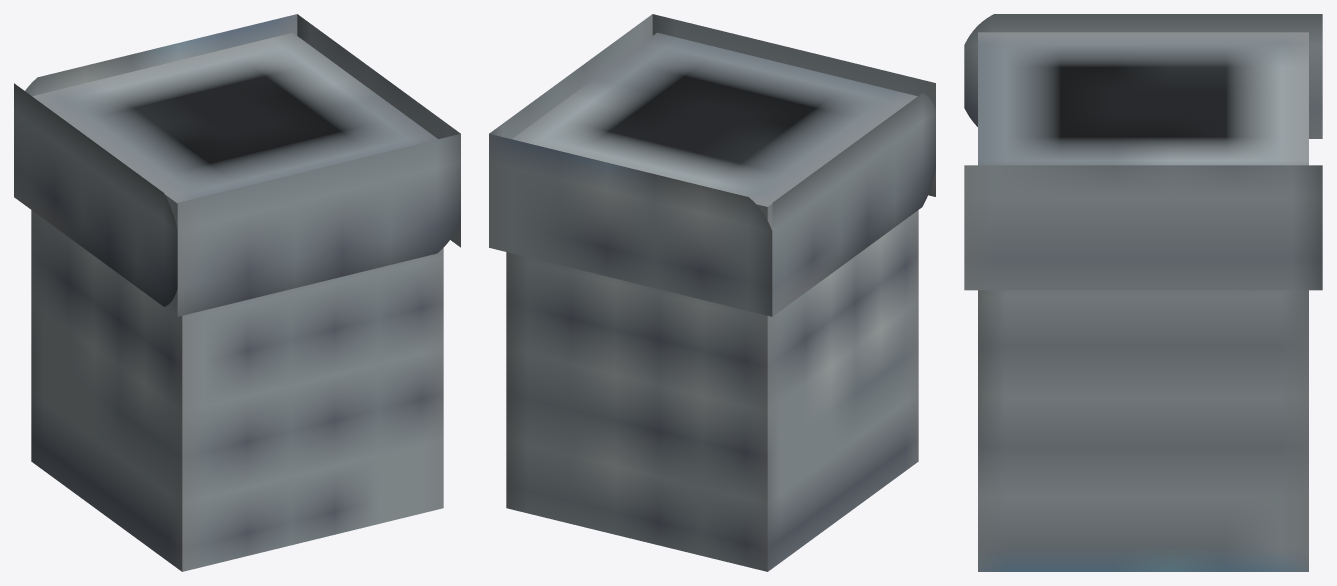
The model's file is tray2.fbx.
3 views of the same model, side by side, from view 1: azimuth 30°, elevation 25°; view 2: azimuth 150°, elevation 25°; view 3: azimuth 270°, elevation 25° (orthographic). The views are drawn at different scales.
Visible parts, largest first — view 1: cube; view 2: cube; view 3: cube.
Boxes of the visible parts, x1,y1,x2,y2 form: cube: (14, 14, 460, 571); cube: (489, 14, 935, 571); cube: (964, 14, 1322, 571).
Size of the model in its own units: 40.62 by 51.56 by 40.62.
Materials: 1 (1 with a texture image).
